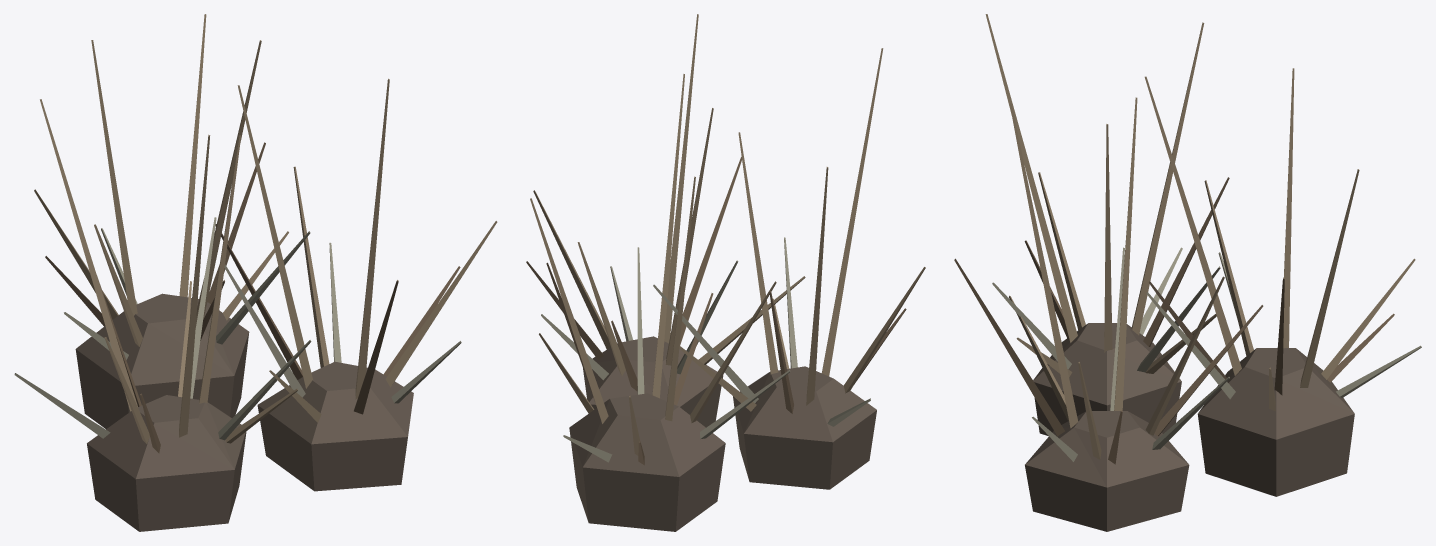
Rendered from thicket.glb.
3 views of the same model, side by side, from view 1: azimuth 30°, elevation 25°; view 2: azimuth 150°, elevation 25°; view 3: azimuth 270°, elevation 25° (orthographic). The views are drawn at different scales.
Parts seen in each view (by area): view 1: thicket; view 2: thicket; view 3: thicket.
Boxes of the visible parts, bbox=[...] form: thicket: bbox=[14, 14, 497, 531]; thicket: bbox=[526, 14, 925, 531]; thicket: bbox=[954, 14, 1421, 531].
Size of the model in its own units: 1.92 by 1.8 by 1.92.
